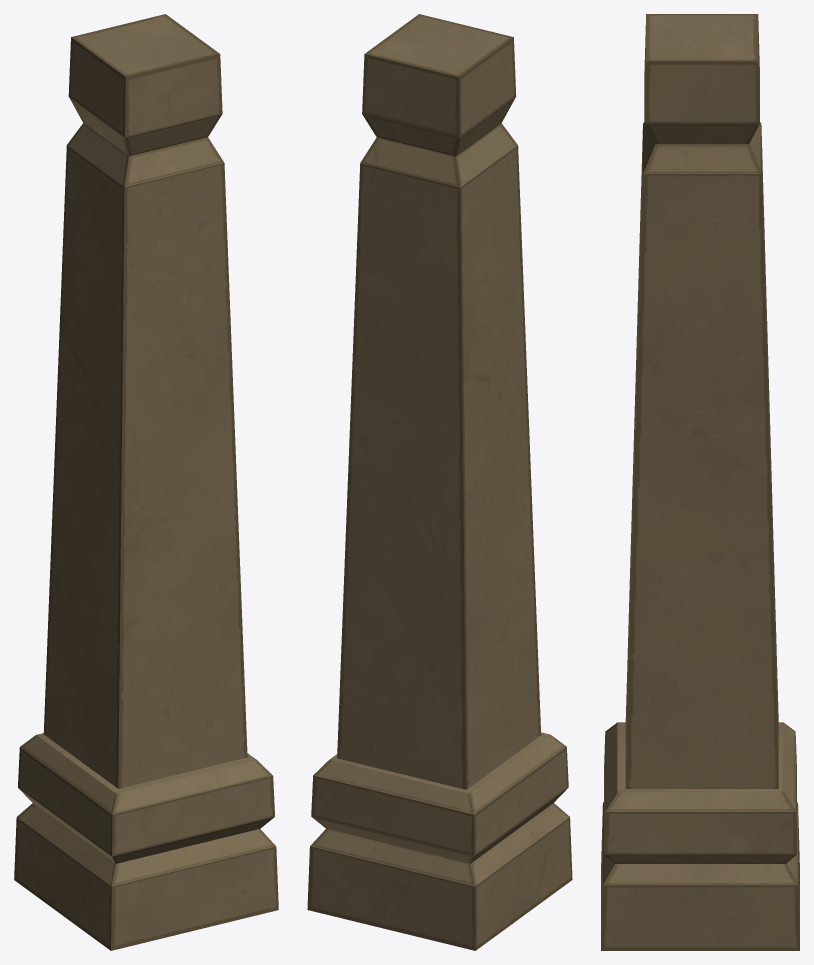
The model's file is SM_building_column_02.glb.
The picture shows the model from 3 angles, left to right: view 1: azimuth 30°, elevation 25°; view 2: azimuth 150°, elevation 25°; view 3: azimuth 270°, elevation 25°; orthographic projection. The views are drawn at different scales.
Parts seen in each view (by area): view 1: SM_building_column_02; view 2: SM_building_column_02; view 3: SM_building_column_02.
Boxes of the visible parts, <box> form: SM_building_column_02: <box>14,14,278,950</box>; SM_building_column_02: <box>307,14,572,950</box>; SM_building_column_02: <box>601,14,799,950</box>.
Size of the model in its own units: 0.6 by 2.9 by 0.6.
1 material, 1 textured.
